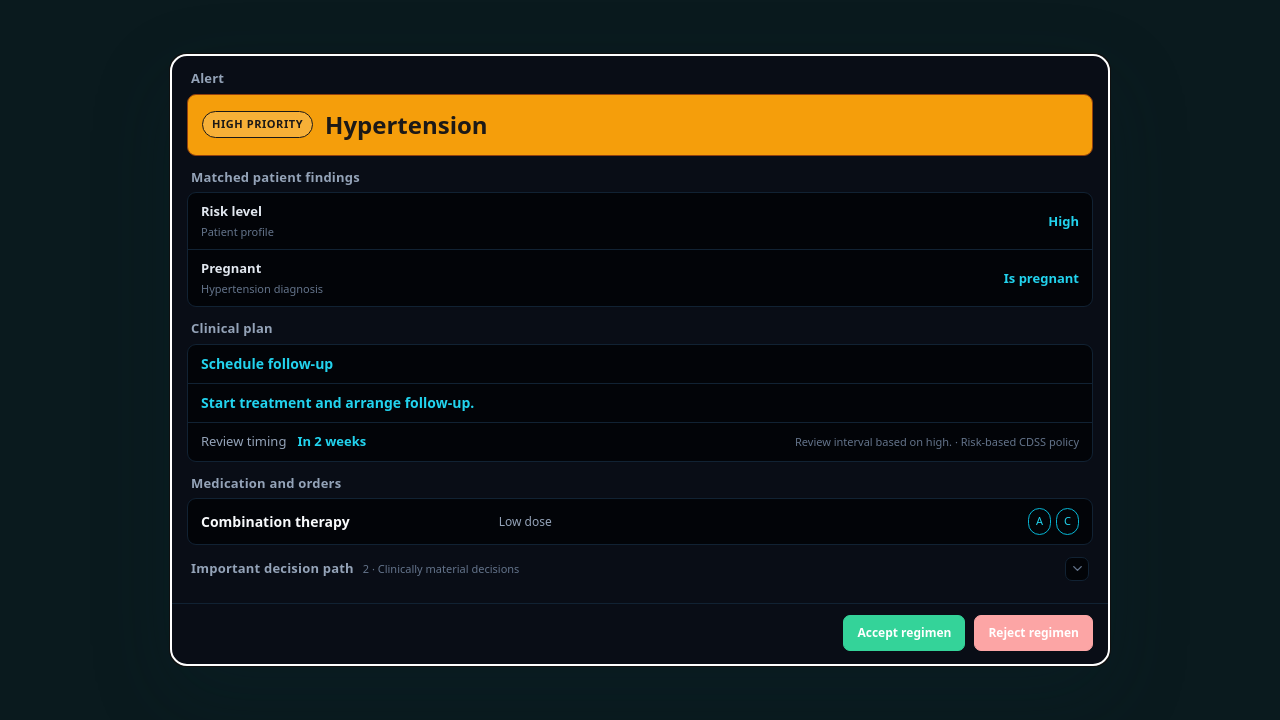
TraversalResultModal › opens the clinician editor over the default regimen popup
The width and height of the screenshot is (1280, 720).
Expected: the button "Accept regimen" is shown, x1=844 y1=615 x2=966 y2=651
Click the button "Reject regimen". click: (1034, 633)
box: x1=974 y1=615 x2=1093 y2=651
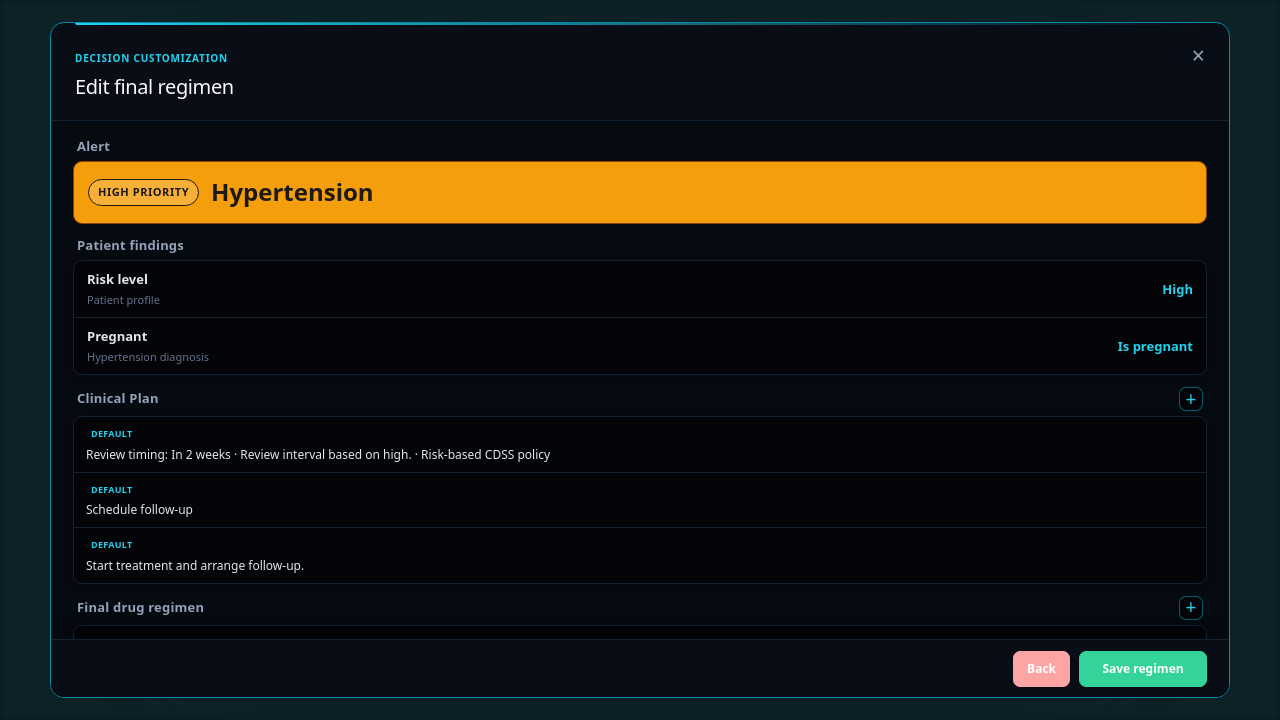
Expected: the dialog named "Edit regimen" is shown
Expected: the text "Patient findings" is shown, x1=77 y1=236 x2=184 y2=255
Expected: the text "Review timing: In 2 weeks" is shown, x1=86 y1=446 x2=550 y2=462
